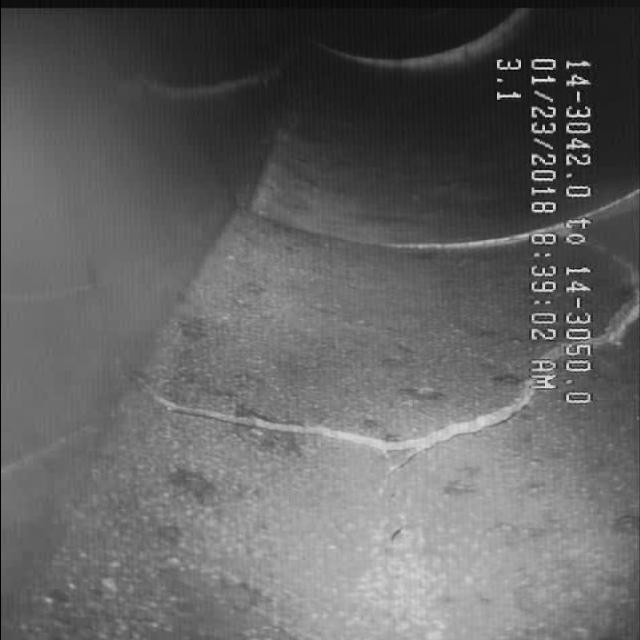Fracture: (121, 379, 522, 483)
